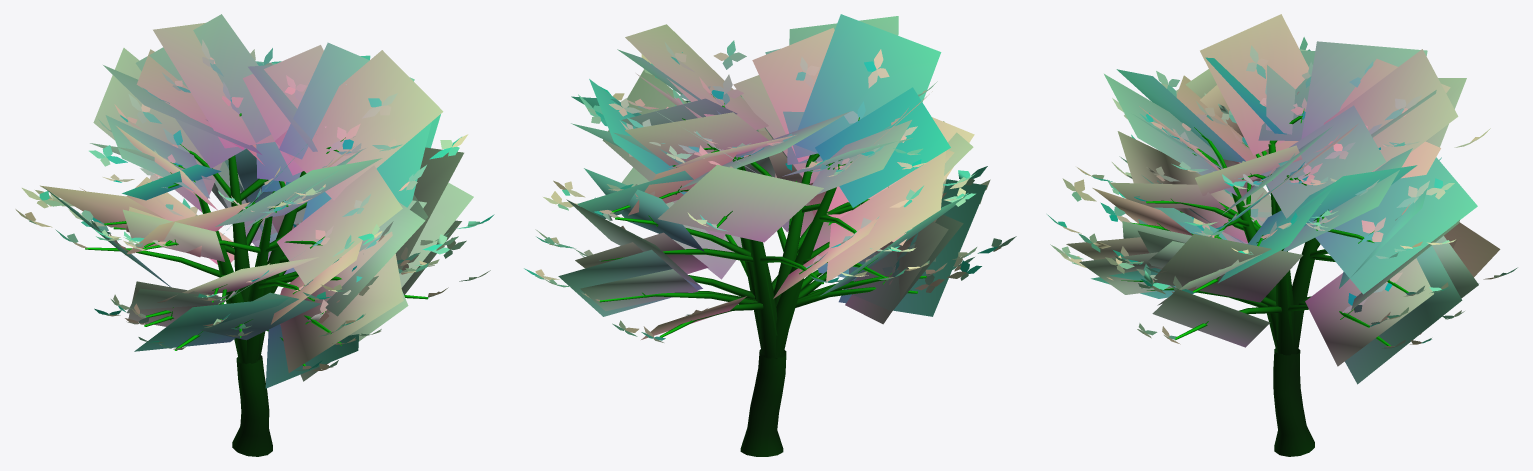
File: hill_a_1.glb
3 views of the same model, side by side, from view 1: azimuth 30°, elevation 25°; view 2: azimuth 150°, elevation 25°; view 3: azimuth 270°, elevation 25° (orthographic). The views are drawn at different scales.
Visible parts, largest first — view 1: mid, near; view 2: mid, near; view 3: mid, near.
Boxes of the visible parts, bbox=[...] form: mid: bbox=[40, 14, 473, 388]; near: bbox=[15, 39, 494, 456]; mid: bbox=[558, 14, 986, 358]; near: bbox=[524, 40, 1016, 456]; mid: bbox=[1066, 14, 1500, 384]; near: bbox=[1047, 37, 1517, 456].
Bounding box in the file's own units: 8.82 × 8.36 × 9.37.
